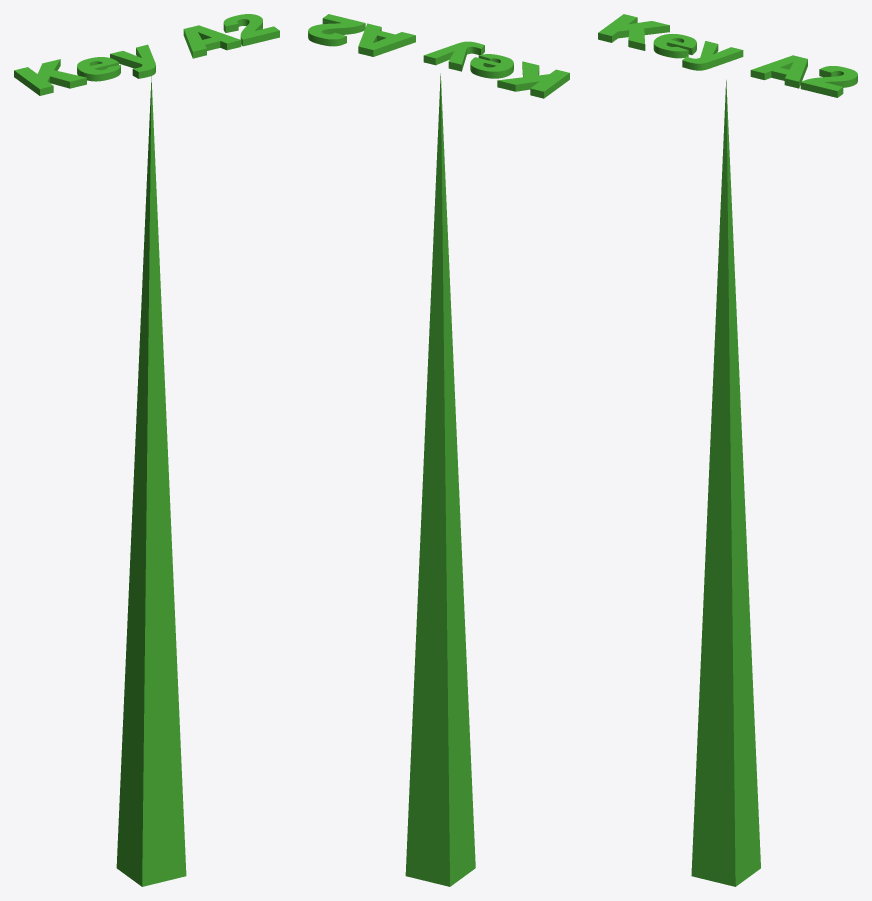
File: Tag_Key_A2.FBX
The picture shows the model from 3 angles, left to right: view 1: azimuth 30°, elevation 25°; view 2: azimuth 150°, elevation 25°; view 3: azimuth 330°, elevation 25°; orthographic projection.
Visible parts, largest first — view 1: Tag_Nail_Key001, Tag_Text_Key_A2; view 2: Tag_Nail_Key001, Tag_Text_Key_A2; view 3: Tag_Nail_Key001, Tag_Text_Key_A2.
Boxes of the visible parts, x1,y1,x2,y2 form: Tag_Nail_Key001: (116, 76, 186, 886); Tag_Text_Key_A2: (14, 14, 279, 95); Tag_Nail_Key001: (405, 73, 475, 886); Tag_Text_Key_A2: (308, 14, 569, 98); Tag_Nail_Key001: (691, 80, 760, 886); Tag_Text_Key_A2: (598, 14, 857, 97).
Size of the model in its own units: 597 by 1944 by 145.
